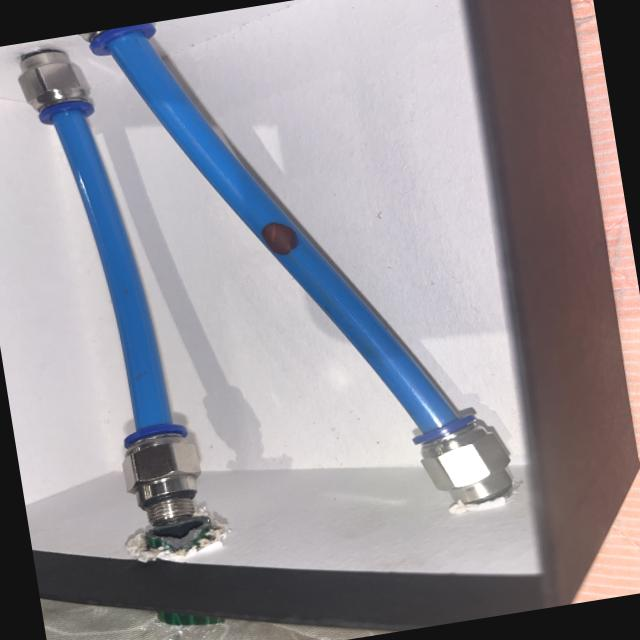hose_damage: (256, 218, 302, 258)
